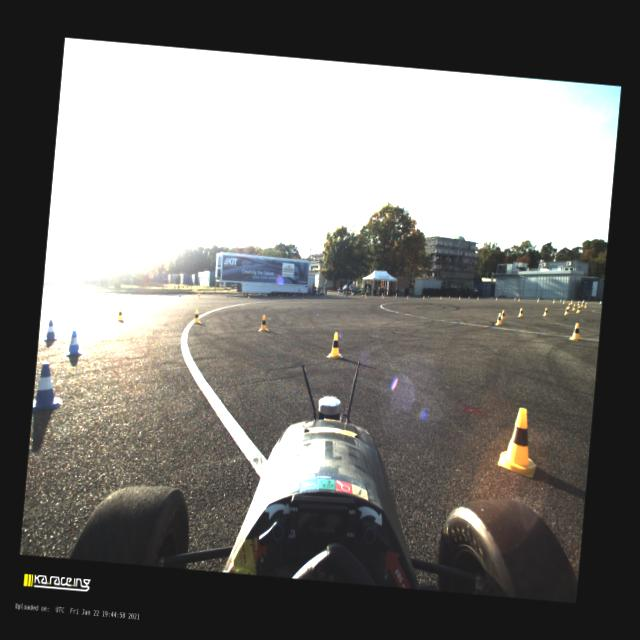blue_cone: (32, 360, 65, 411), (64, 329, 85, 358), (44, 318, 58, 341), (598, 300, 602, 305), (226, 292, 228, 298), (178, 292, 180, 297), (560, 298, 562, 303), (361, 294, 363, 298), (392, 294, 394, 298), (427, 294, 429, 298), (448, 294, 450, 298), (514, 296, 516, 300), (42, 292, 44, 296), (126, 293, 128, 297), (582, 299, 584, 303), (70, 293, 72, 296), (341, 294, 342, 298), (468, 296, 470, 298), (94, 294, 95, 296)
large_orange_cone: (394, 292, 398, 298), (381, 292, 383, 298)
yellow_cone: (496, 406, 540, 478), (325, 331, 345, 359), (568, 322, 582, 341), (258, 314, 270, 332), (192, 309, 202, 324), (116, 308, 125, 322), (494, 312, 503, 326), (516, 307, 524, 317), (500, 310, 506, 320), (542, 306, 548, 316), (564, 306, 570, 315), (576, 305, 581, 313), (571, 303, 576, 311), (584, 302, 588, 308), (580, 302, 584, 308), (576, 300, 580, 305), (562, 298, 565, 304), (552, 298, 555, 304), (247, 292, 250, 298), (567, 302, 570, 308), (494, 296, 498, 300), (536, 297, 539, 302), (197, 293, 200, 298), (570, 300, 573, 304), (518, 296, 520, 302), (406, 294, 409, 298), (44, 292, 46, 298), (458, 295, 460, 300), (129, 293, 131, 298), (280, 293, 282, 298), (476, 296, 478, 300), (440, 295, 442, 299), (422, 294, 424, 298), (302, 294, 304, 298), (324, 294, 326, 298), (382, 294, 384, 298), (364, 294, 366, 298), (85, 294, 86, 298)
